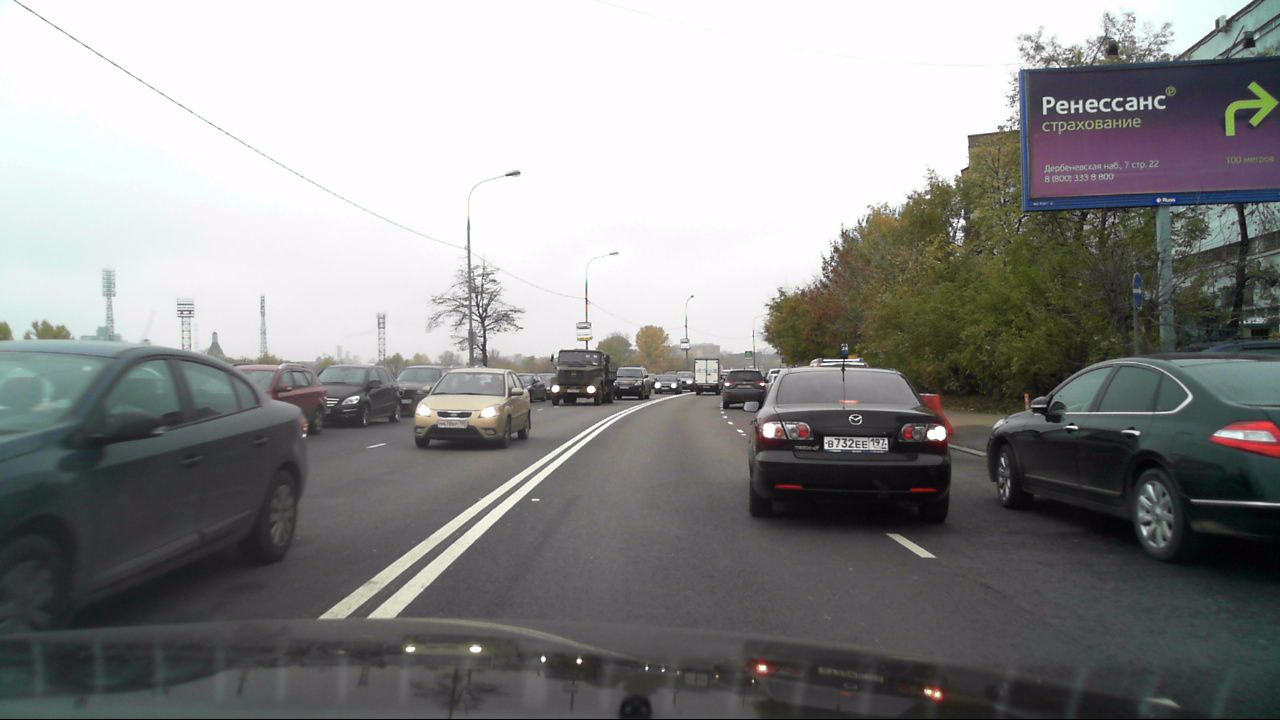Turn Right: (1132, 272, 1144, 308)
